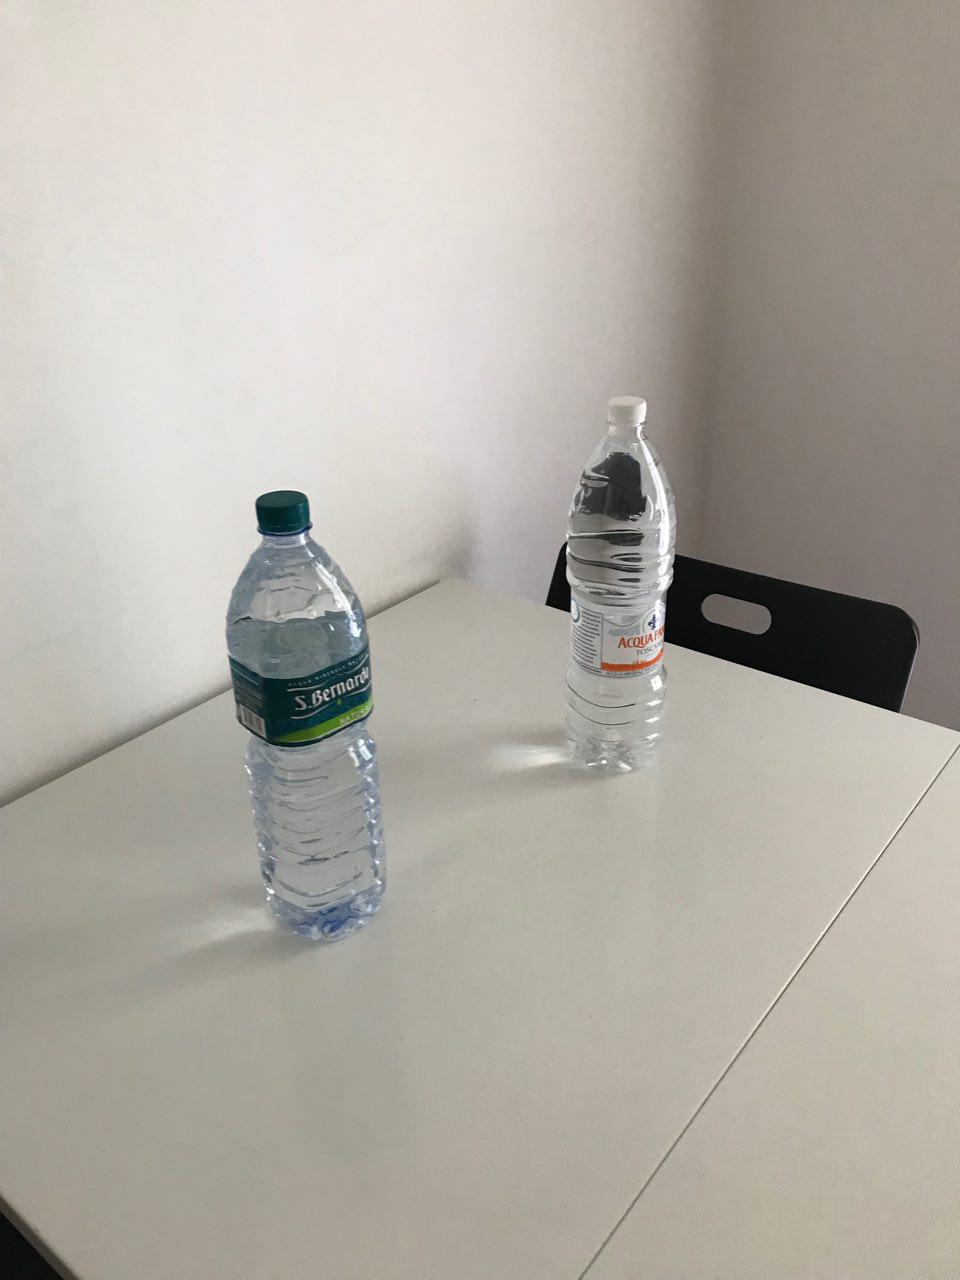san_bernardo: (225, 489, 388, 942)
